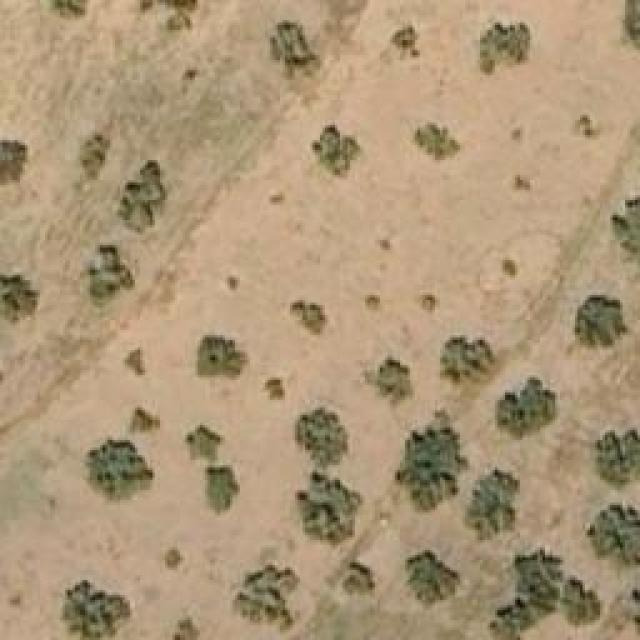Tree: (489, 547, 602, 640), (403, 420, 466, 508), (230, 565, 303, 633), (298, 470, 363, 540), (60, 580, 133, 640), (87, 438, 155, 501), (465, 468, 520, 543), (118, 160, 173, 233), (498, 378, 558, 441), (587, 502, 640, 569), (87, 245, 135, 318), (570, 295, 633, 348), (400, 550, 460, 605), (270, 22, 323, 80), (313, 125, 366, 180), (363, 355, 416, 408), (298, 408, 351, 461), (440, 335, 495, 385), (480, 23, 530, 76), (595, 427, 640, 485), (198, 332, 248, 380), (203, 463, 243, 516), (412, 123, 460, 166), (0, 273, 38, 323), (610, 195, 640, 255), (140, 0, 198, 30), (290, 298, 328, 338), (78, 133, 111, 178), (0, 133, 28, 183), (617, 0, 640, 60), (185, 428, 220, 463), (412, 287, 440, 325), (343, 565, 376, 595), (392, 25, 420, 60), (50, 0, 88, 20), (573, 115, 603, 140), (123, 348, 148, 378), (130, 408, 160, 433), (172, 617, 199, 640), (265, 378, 285, 401), (165, 548, 185, 568), (500, 258, 518, 278), (512, 175, 530, 190), (365, 295, 380, 310)
